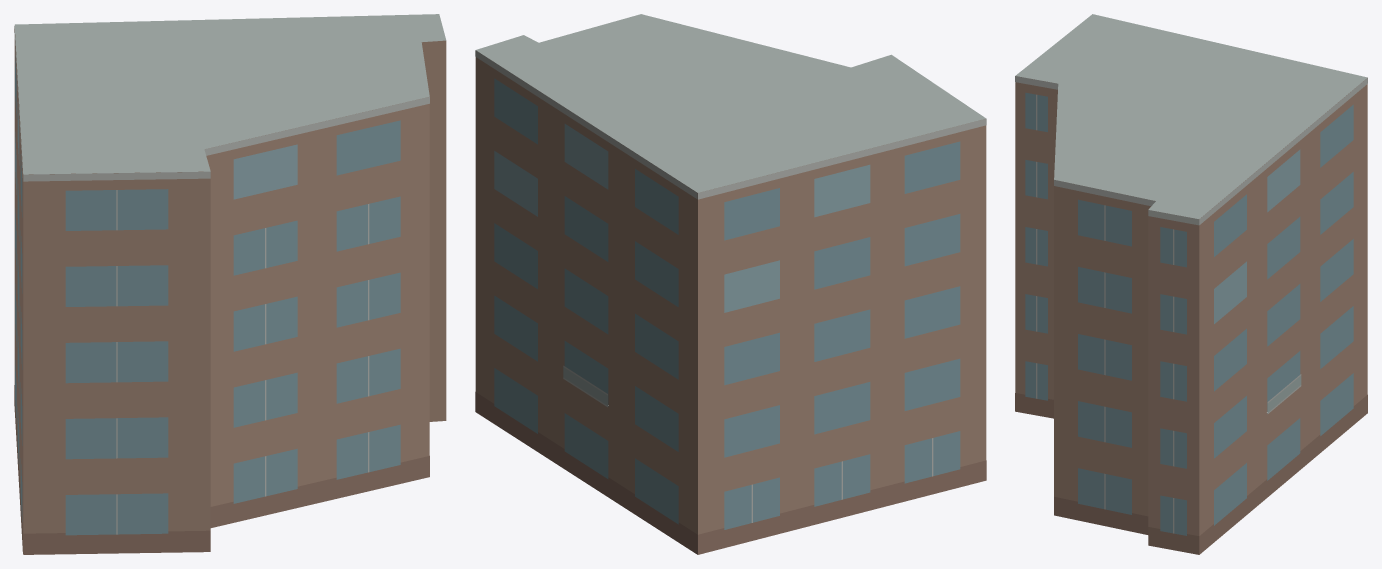
Rendered from survey-upis-32660922.glb.
The picture shows the model from 3 angles, left to right: view 1: azimuth 30°, elevation 25°; view 2: azimuth 150°, elevation 25°; view 3: azimuth 270°, elevation 25°; orthographic projection. The views are drawn at different scales.
Visible parts, largest first — view 1: survey-upis-32660922.tmp; view 2: survey-upis-32660922.tmp; view 3: survey-upis-32660922.tmp.
Part boxes in pixels (x1,y1,x2,y2): survey-upis-32660922.tmp: (14, 14, 446, 554); survey-upis-32660922.tmp: (475, 14, 986, 554); survey-upis-32660922.tmp: (1015, 14, 1367, 554).
Bounding box in the file's own units: 17.32 × 13.2 × 12.58.
